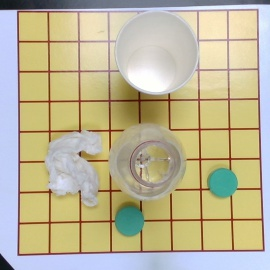bottle: (110, 124, 187, 201)
cup: (114, 11, 199, 97)
green: (115, 207, 144, 236), (209, 169, 237, 197)
